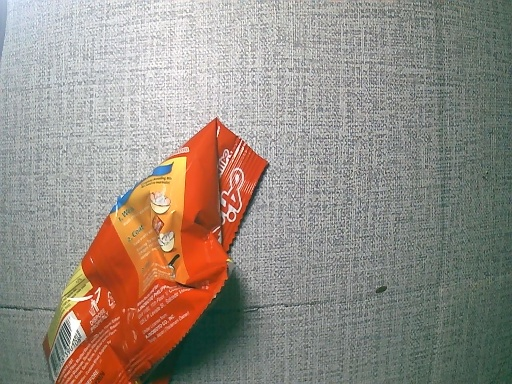plastic: (37, 113, 275, 384)
